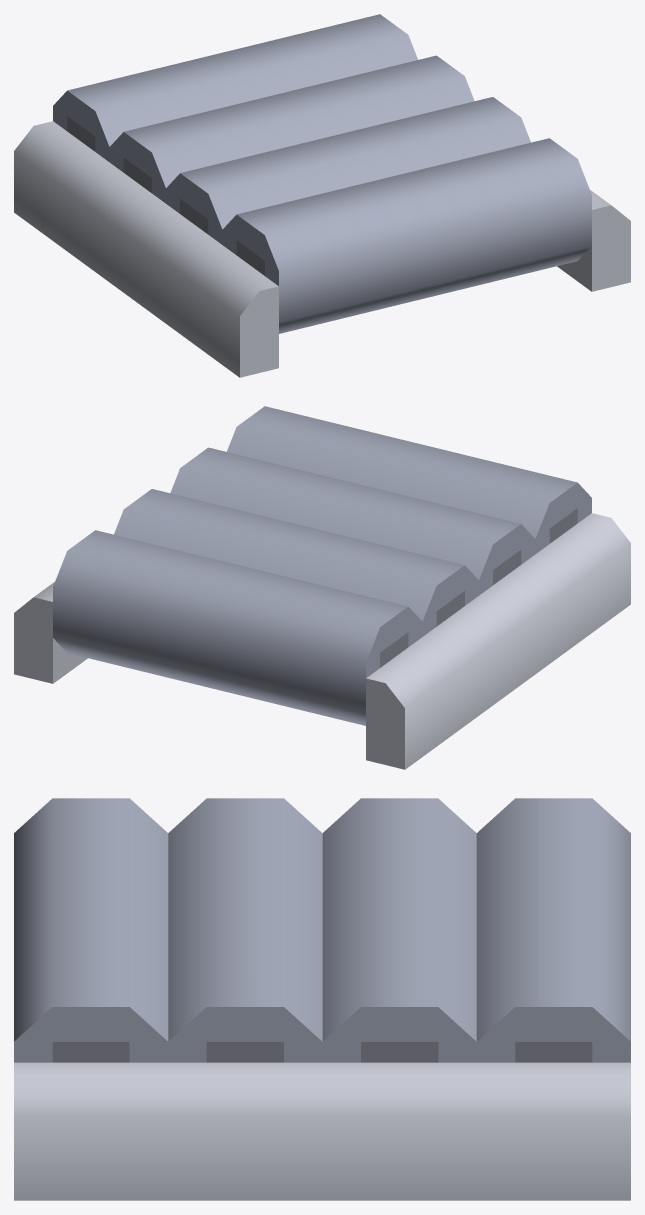
Rendered from conveyor-bars-sides.fbx.
3 views of the same model, one above another, from view 1: azimuth 30°, elevation 25°; view 2: azimuth 150°, elevation 25°; view 3: azimuth 270°, elevation 25° (orthographic). The views are drawn at different scales.
Parts seen in each view (by area): view 1: Group.005, Group.006; view 2: Group.005, Group.006; view 3: Group.005, Group.006.
Part boxes in pixels (x1,y1,x2,y2): Group.005: (53,14,591,333); Group.006: (14,121,630,377); Group.005: (53,406,591,725); Group.006: (14,513,630,769); Group.005: (14,798,630,1062); Group.006: (14,1062,630,1200).
Size of the model in its own units: 100 by 30 by 100.
